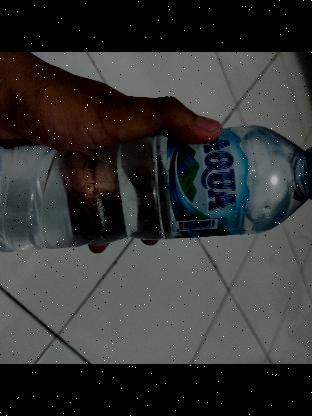Plastic Bottle: (0, 125, 312, 255)
